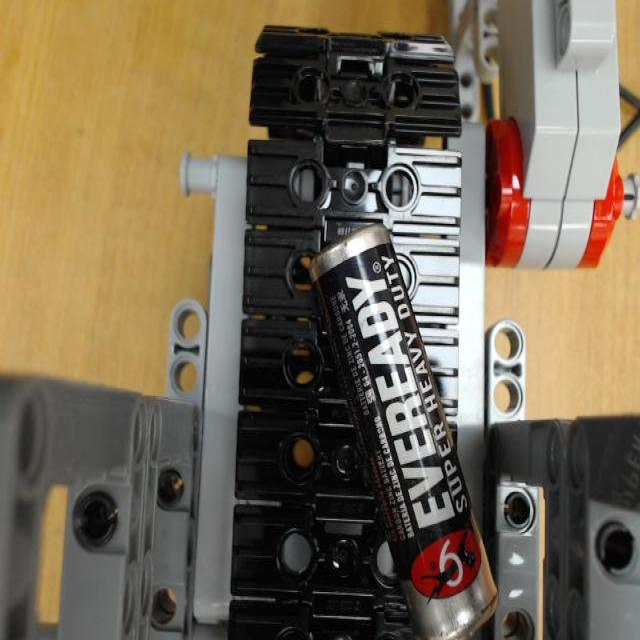AA: (307, 223, 500, 638)
